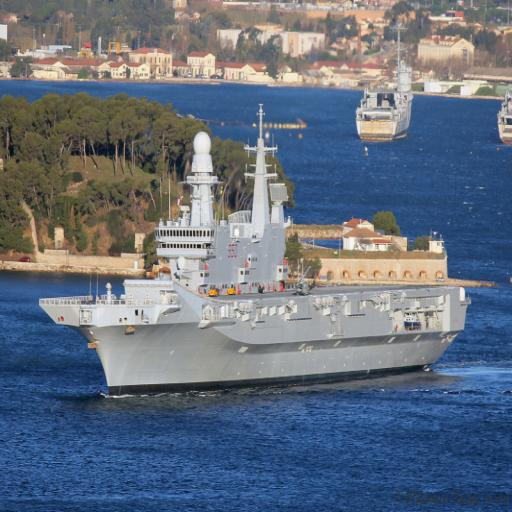Portanaves: (37, 92, 474, 408)
